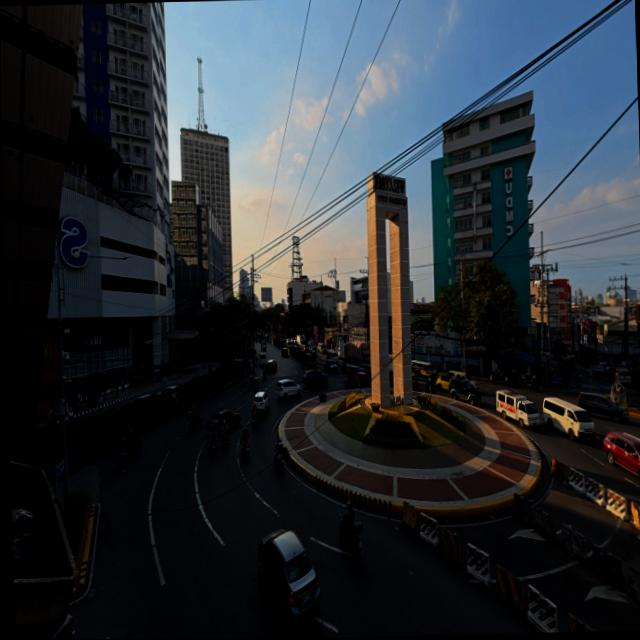Jeepneys: (410, 360, 437, 379), (316, 343, 325, 354)
car: (603, 431, 639, 481), (577, 393, 627, 423), (449, 378, 480, 405), (44, 614, 74, 639), (205, 410, 239, 431), (448, 371, 479, 391), (276, 379, 300, 399), (303, 370, 327, 389), (33, 422, 58, 438), (344, 364, 367, 381), (253, 392, 268, 414), (160, 385, 177, 401), (435, 374, 450, 392), (129, 392, 153, 403), (339, 362, 356, 374), (358, 362, 371, 377), (598, 363, 612, 374), (258, 353, 265, 365), (281, 347, 287, 357)
motorcycle: (338, 521, 362, 557), (121, 437, 142, 461), (274, 445, 286, 468), (186, 412, 201, 430), (505, 371, 521, 384), (209, 427, 217, 453), (489, 371, 502, 384), (530, 379, 541, 392), (242, 440, 249, 457), (222, 432, 229, 448), (412, 378, 420, 392), (344, 377, 353, 389), (250, 414, 256, 426), (575, 376, 581, 388), (254, 380, 258, 392), (249, 378, 253, 389), (262, 370, 266, 381)
trucks: (339, 341, 369, 363)
vans: (542, 398, 594, 441), (495, 390, 538, 427), (614, 368, 630, 384), (325, 350, 337, 360), (259, 353, 265, 365), (260, 341, 266, 351)
